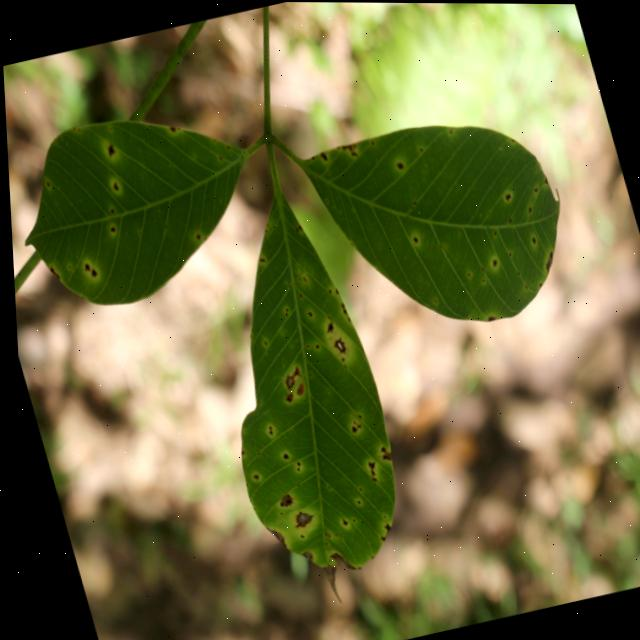Colletotrichum: (316, 562, 339, 604), (87, 268, 95, 277), (80, 262, 88, 271), (277, 452, 284, 459)
Leaf-Blight: (322, 548, 349, 573)
